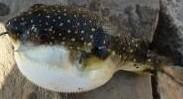fish: (7, 4, 153, 91)
